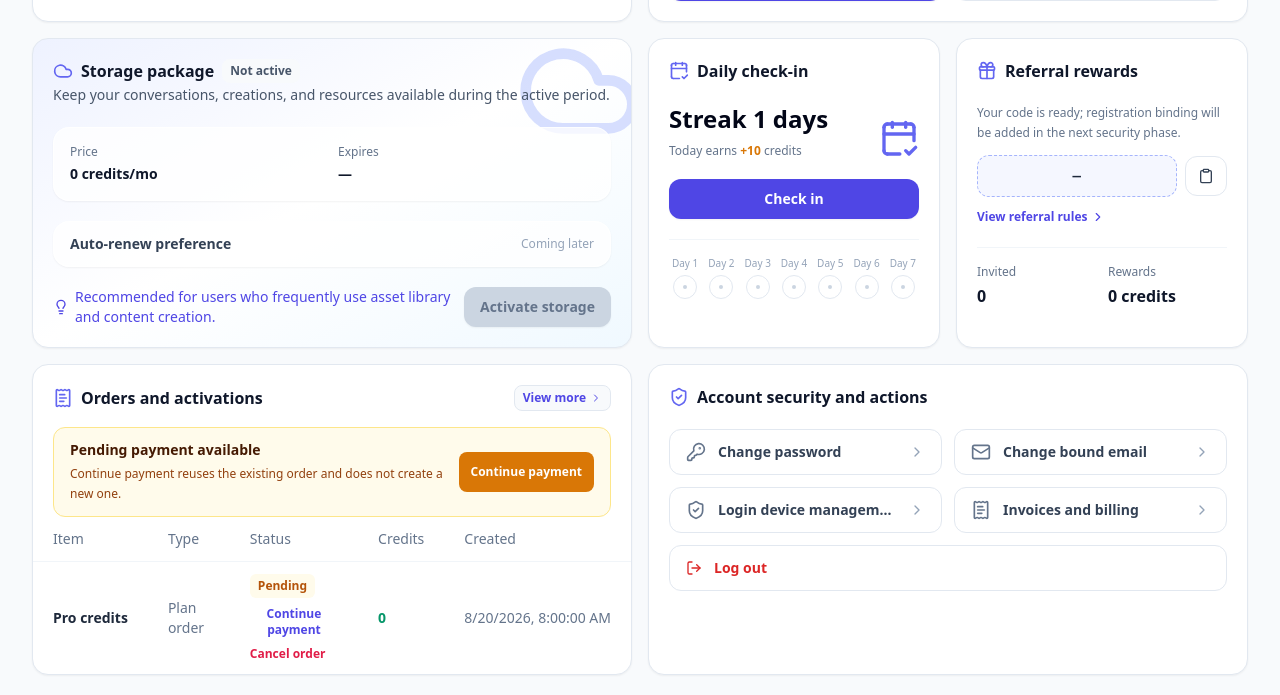
AccountPanel user Order cancellation › posts once and immediately removes pending actions after cancellation succeeds
(page scrolled)
What coordinates should you click on to do the following:
click the button "Cancel order"
I would click on:
 (288, 654)
Its box is [250, 646, 325, 662].
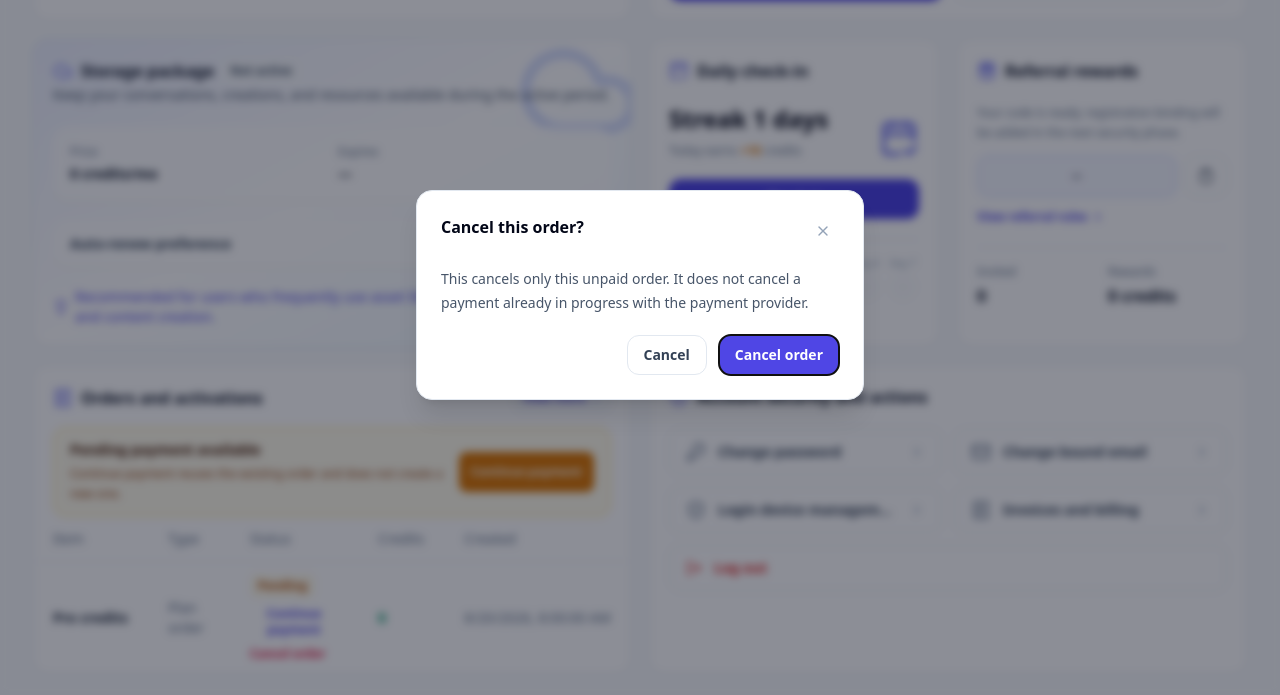
What coordinates should you click on to do the following:
click the button "Cancel order"
I would click on:
 (779, 355)
Its box is [719, 335, 839, 375].
(page scrolled)
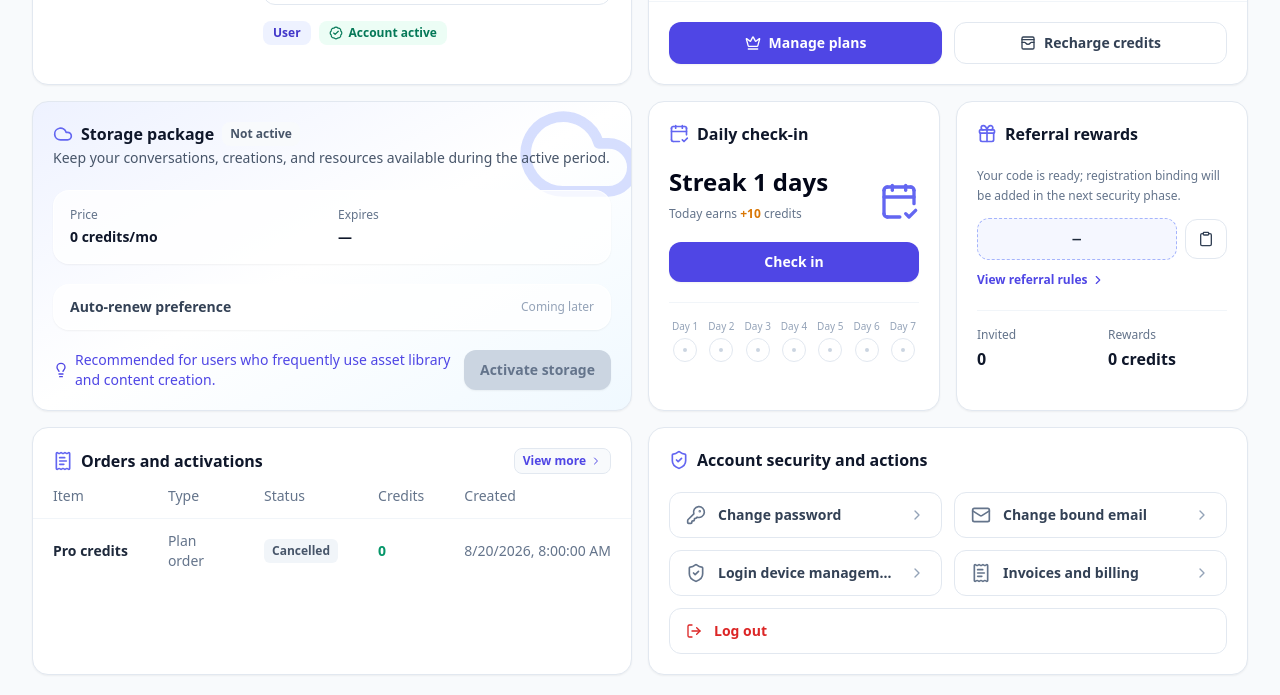
Now the row "Pro credits Plan order Cancelled 0 8/20/2026, 8:00:00 AM" is shown, box [33, 518, 631, 583]
